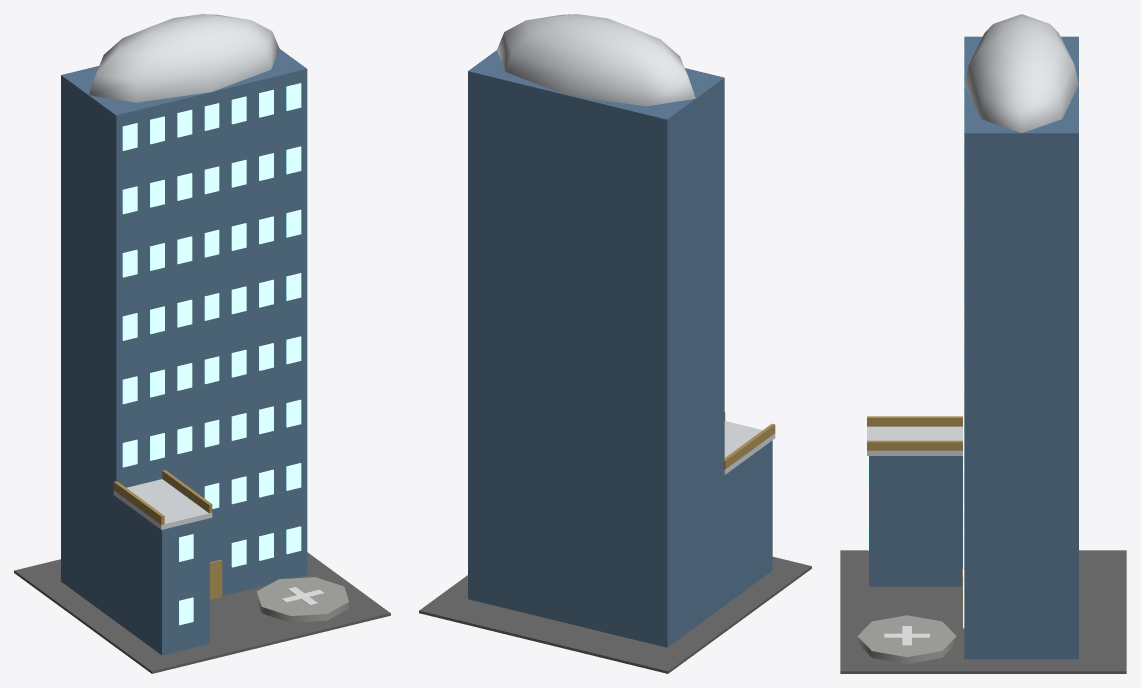
Rendered from bld_special_hospital_a10_lod1.glb.
3 views of the same model, side by side, from view 1: azimuth 30°, elevation 25°; view 2: azimuth 150°, elevation 25°; view 3: azimuth 270°, elevation 25° (orthographic). The views are drawn at different scales.
Visible parts, largest first — view 1: body; view 2: body; view 3: body.
Boxes of the visible parts, <box> form: body: <box>14,14,390,673</box>; body: <box>419,14,811,673</box>; body: <box>840,14,1126,673</box>.
Size of the model in its own units: 15 by 33.55 by 15.
